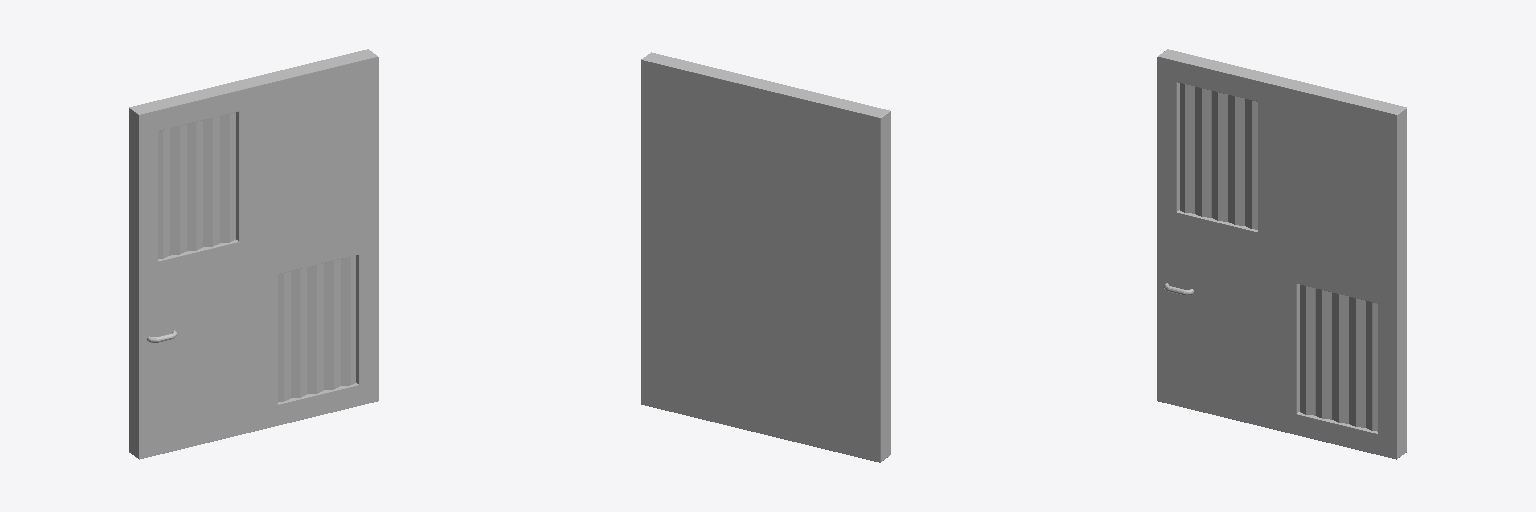
File: Door_01.obj
The picture shows the model from 3 angles: view 1: azimuth 30°, elevation 25°; view 2: azimuth 150°, elevation 25°; view 3: azimuth 330°, elevation 25°; orthographic projection.
Parts seen in each view (by area): view 1: Door_Cube.008; view 2: Door_Cube.008; view 3: Door_Cube.008.
Part boxes in pixels (x1,y1,x2,y2): Door_Cube.008: (129,49,378,459); Door_Cube.008: (641,52,890,462); Door_Cube.008: (1157,49,1406,459).
Bounding box in the file's own units: 1.93 × 2.65 × 0.2034.